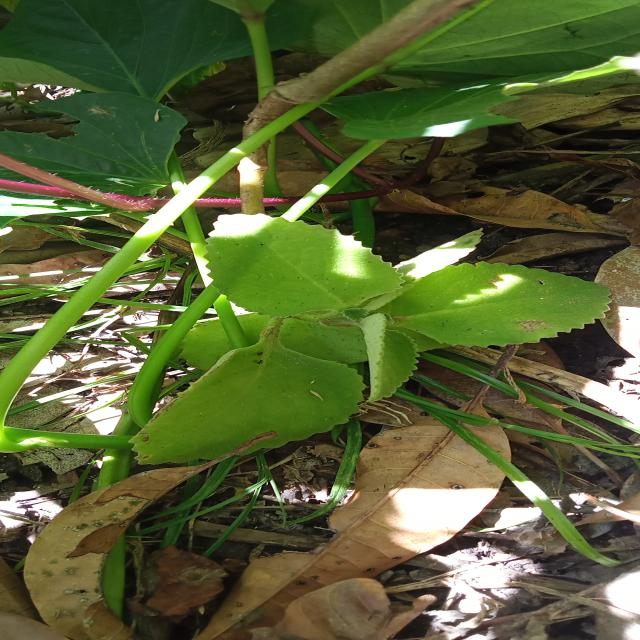Oregano: (93, 181, 599, 497)
